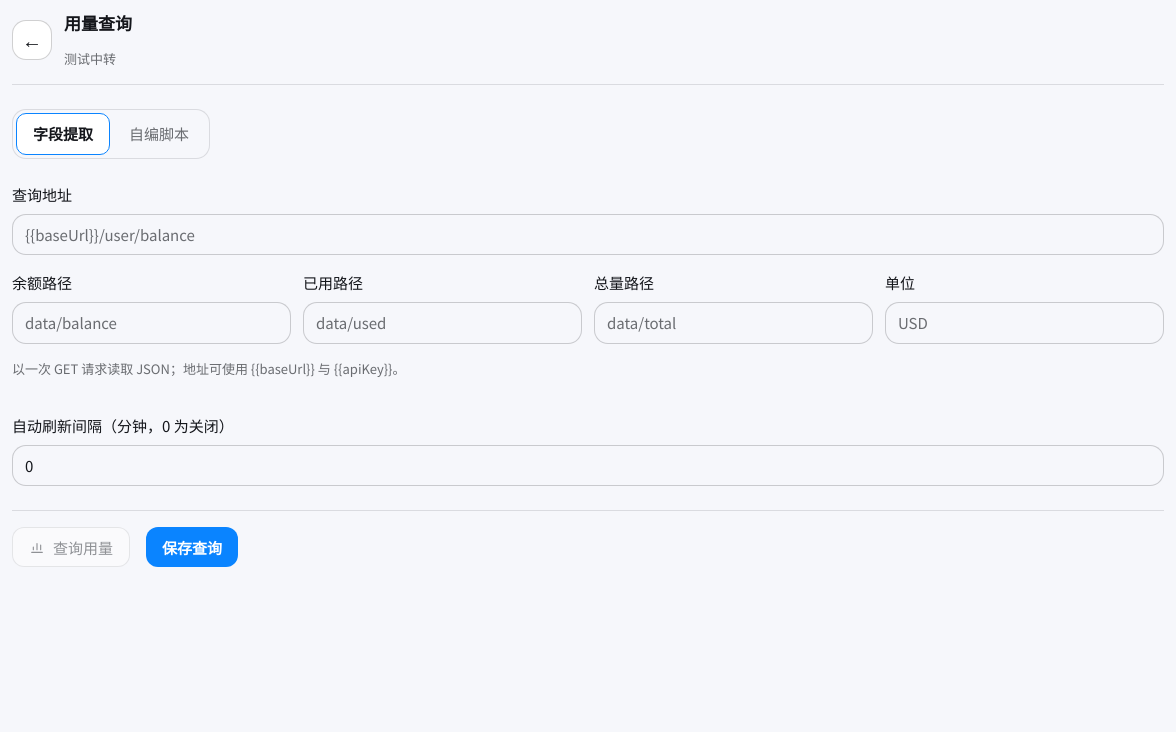
Test case: UsageQueryWorkspace › uses a full workspace with two optional query modes
The width and height of the screenshot is (1176, 732).
Click the tab "自编脚本": (159, 134) [112, 113, 206, 155]
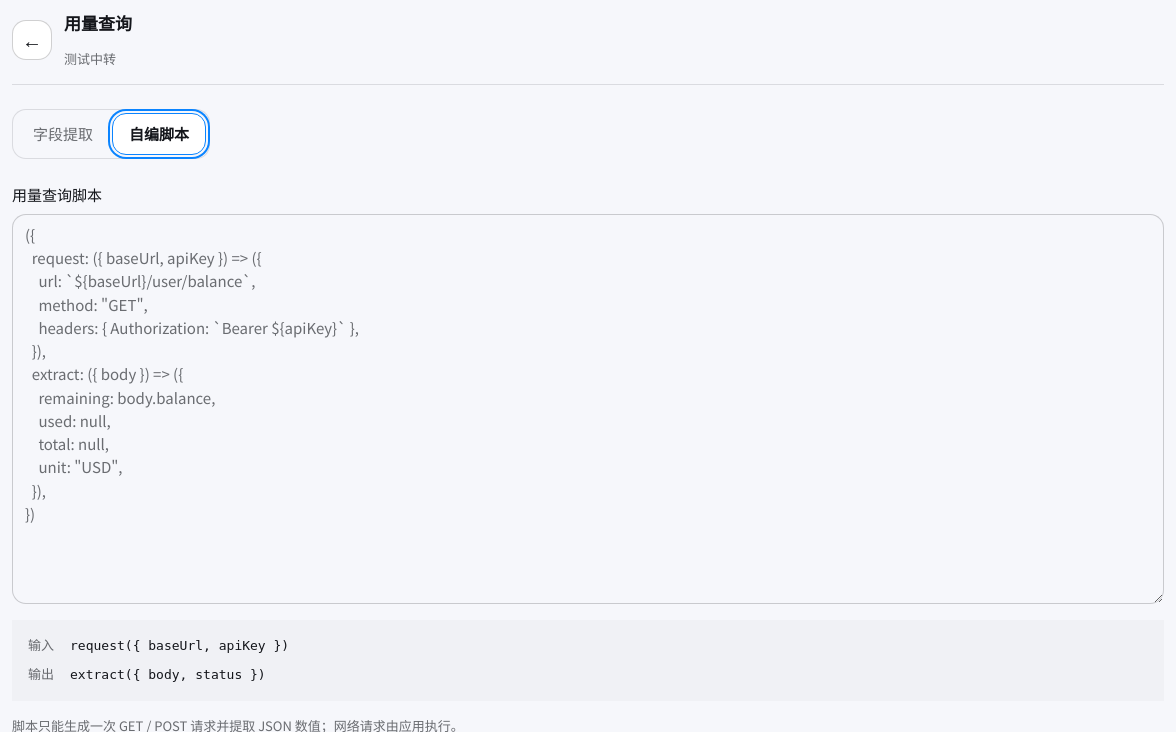
Check: the text box labelled "用量查询脚本" is shown, box [12, 214, 1164, 604]
